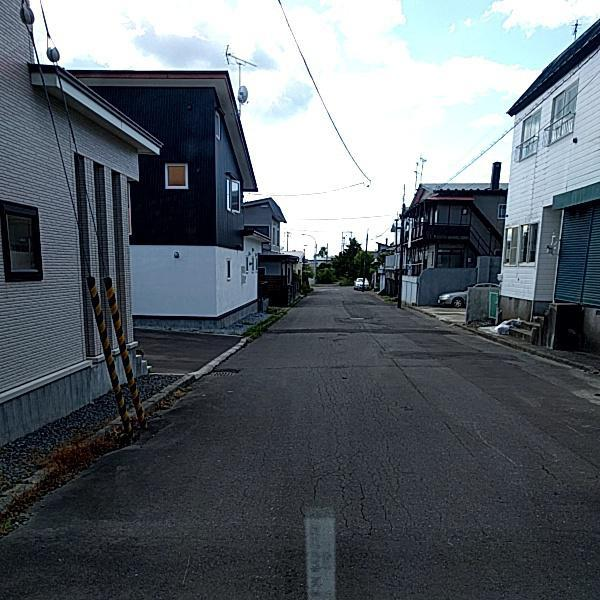D20: (199, 345, 579, 592)
